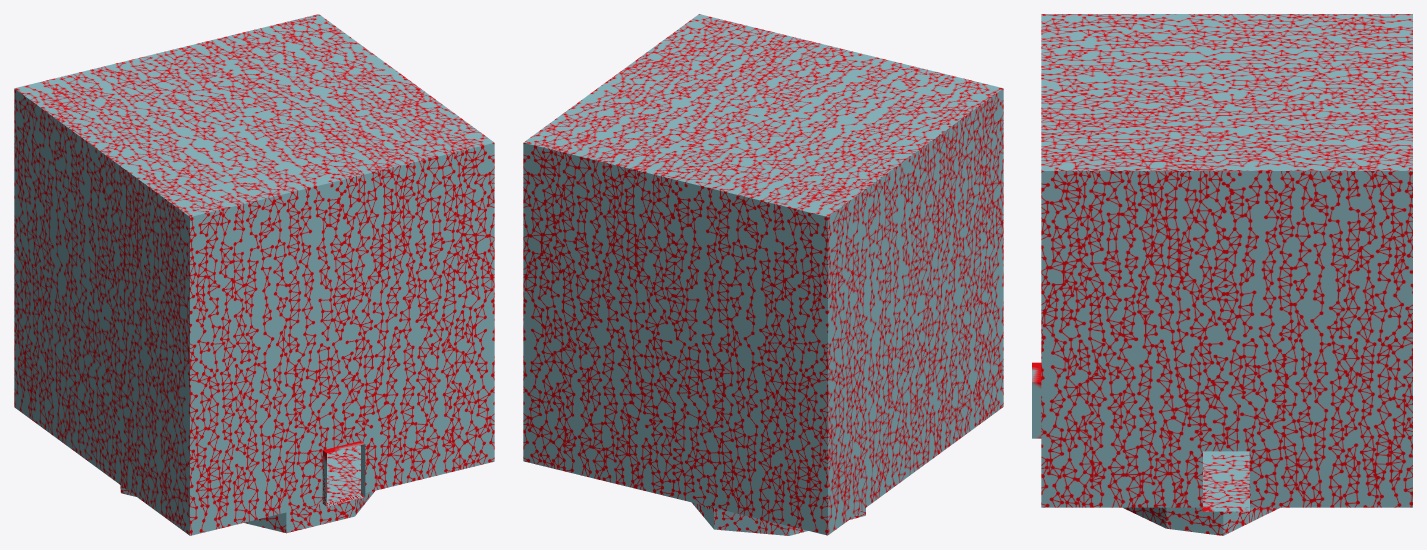
Rendered from Orb_Rm.fbx.
3 views of the same model, side by side, from view 1: azimuth 30°, elevation 25°; view 2: azimuth 150°, elevation 25°; view 3: azimuth 270°, elevation 25° (orthographic). The views are drawn at different scales.
Parts seen in each view (by area): view 1: P_Orb_Rm; view 2: P_Orb_Rm; view 3: P_Orb_Rm.
Part boxes in pixels (left/top/right/bottom): P_Orb_Rm: left=14, top=14, right=494, bottom=535; P_Orb_Rm: left=523, top=14, right=1003, bottom=535; P_Orb_Rm: left=1032, top=14, right=1412, bottom=535.
Bounding box in the file's own units: 28.51 × 31.43 × 28.51.
